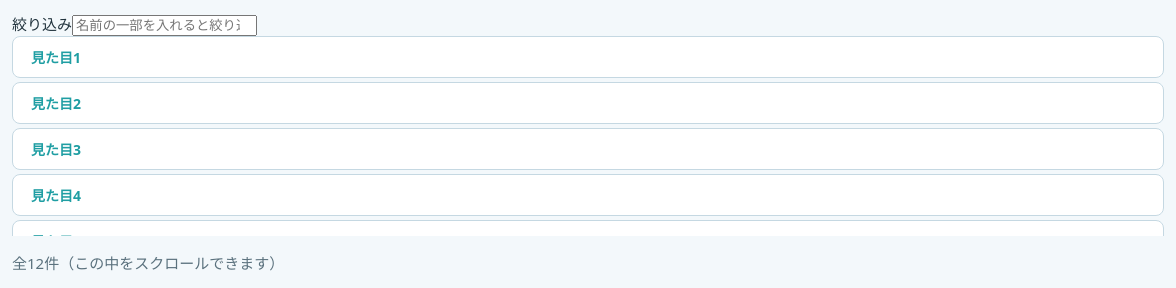
Test case: PickerList › 見つからないときは次の行動を出す（§2-5）
Step 1. Type "ない" into the search field labelled "絞り込み" → {"x": 164, "y": 26}, box [72,15,257,36]
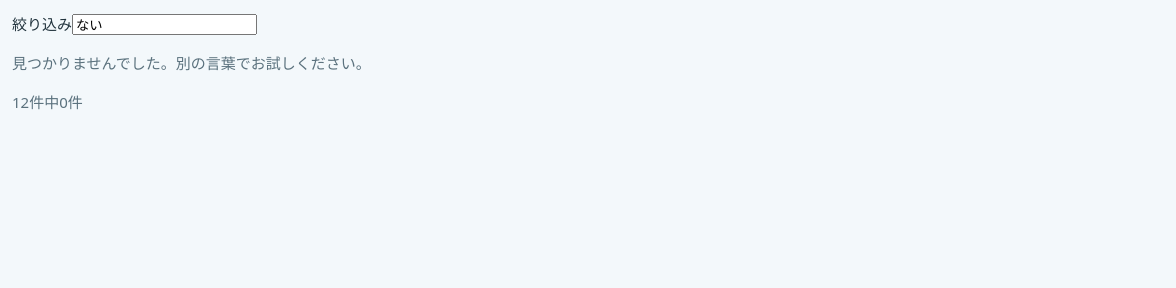
Now the text "見つかりませんでした。別の言葉でお試しください。" is shown, box [12,53,371,73]
